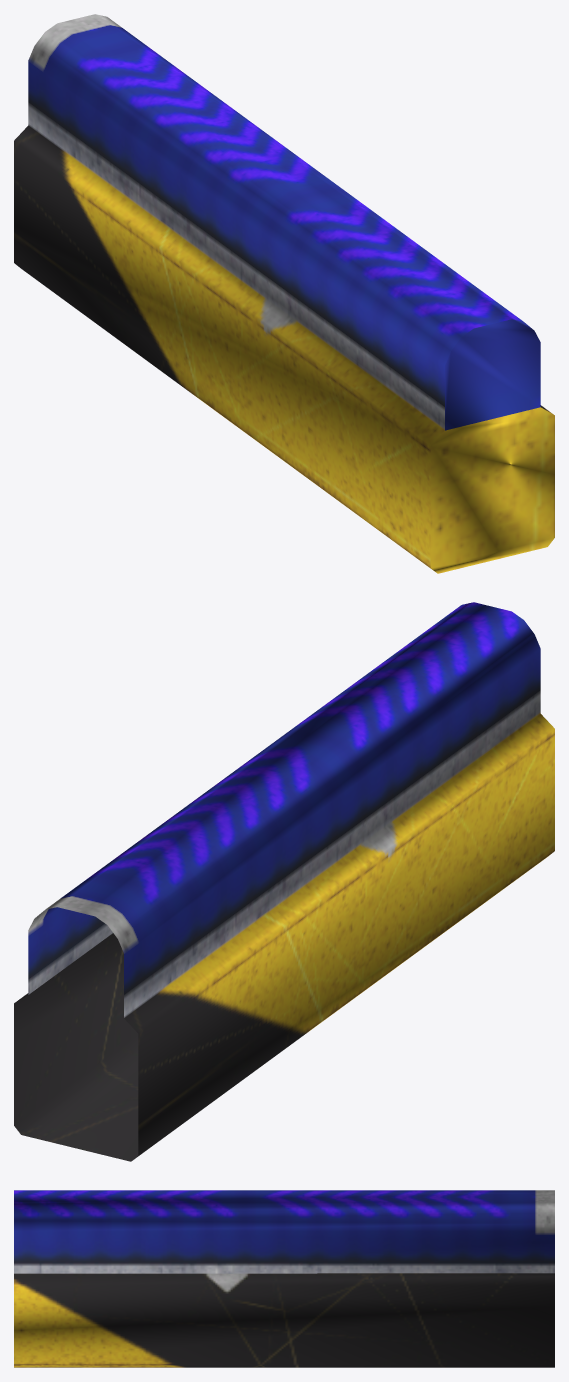
Rendered from Ob_GrindRail04_RC.fbx.
The picture shows the model from 3 angles, top to bottom: view 1: azimuth 30°, elevation 25°; view 2: azimuth 150°, elevation 25°; view 3: azimuth 270°, elevation 25°; orthographic projection. The views are drawn at different scales.
Parts seen in each view (by area): view 1: Ob_GrindRail04_RC; view 2: Ob_GrindRail04_RC; view 3: Ob_GrindRail04_RC.
Part boxes in pixels (<box>): Ob_GrindRail04_RC: <box>14,14,554,573</box>; Ob_GrindRail04_RC: <box>14,602,554,1161</box>; Ob_GrindRail04_RC: <box>14,1190,554,1367</box>.
Bounding box in the file's own units: 34.44 × 62.67 × 200.
